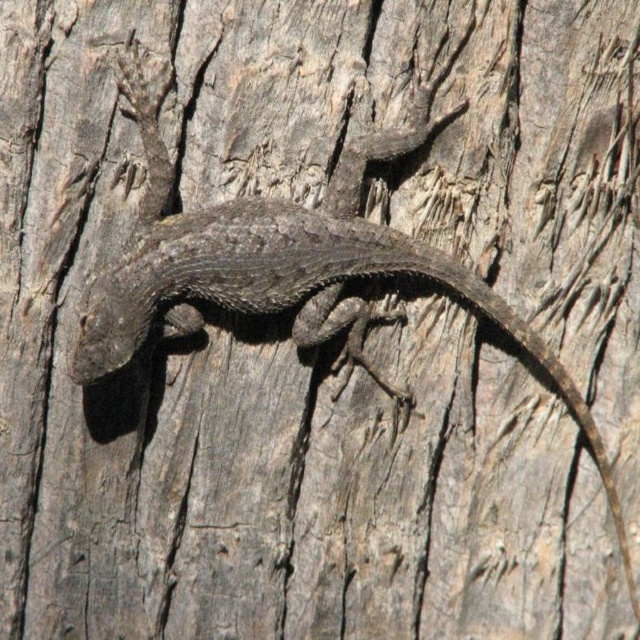Lizard: (65, 13, 639, 620)
